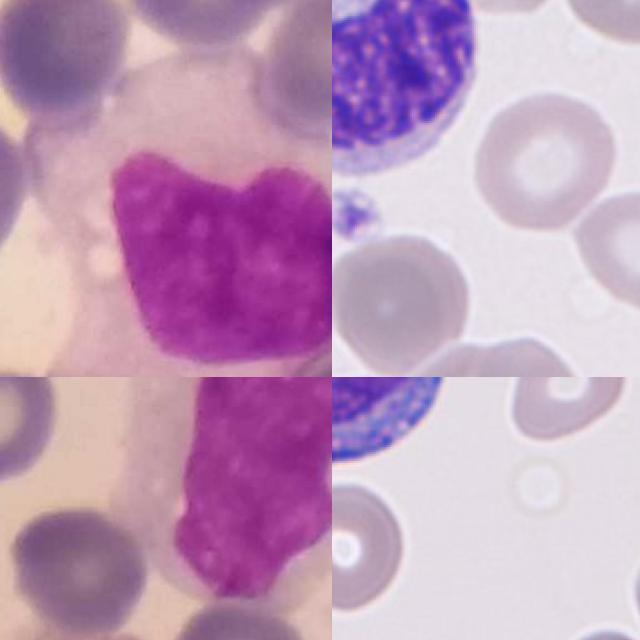Lymphocyte: (332, 0, 494, 188)
Monocyte: (32, 47, 332, 377), (130, 377, 332, 616)
Platelets: (332, 185, 387, 245)
RBC: (332, 77, 468, 267), (469, 85, 623, 235), (332, 227, 460, 377), (332, 475, 411, 619), (392, 331, 607, 377), (568, 181, 640, 316), (504, 377, 639, 446), (536, 619, 640, 640), (624, 511, 640, 640)
